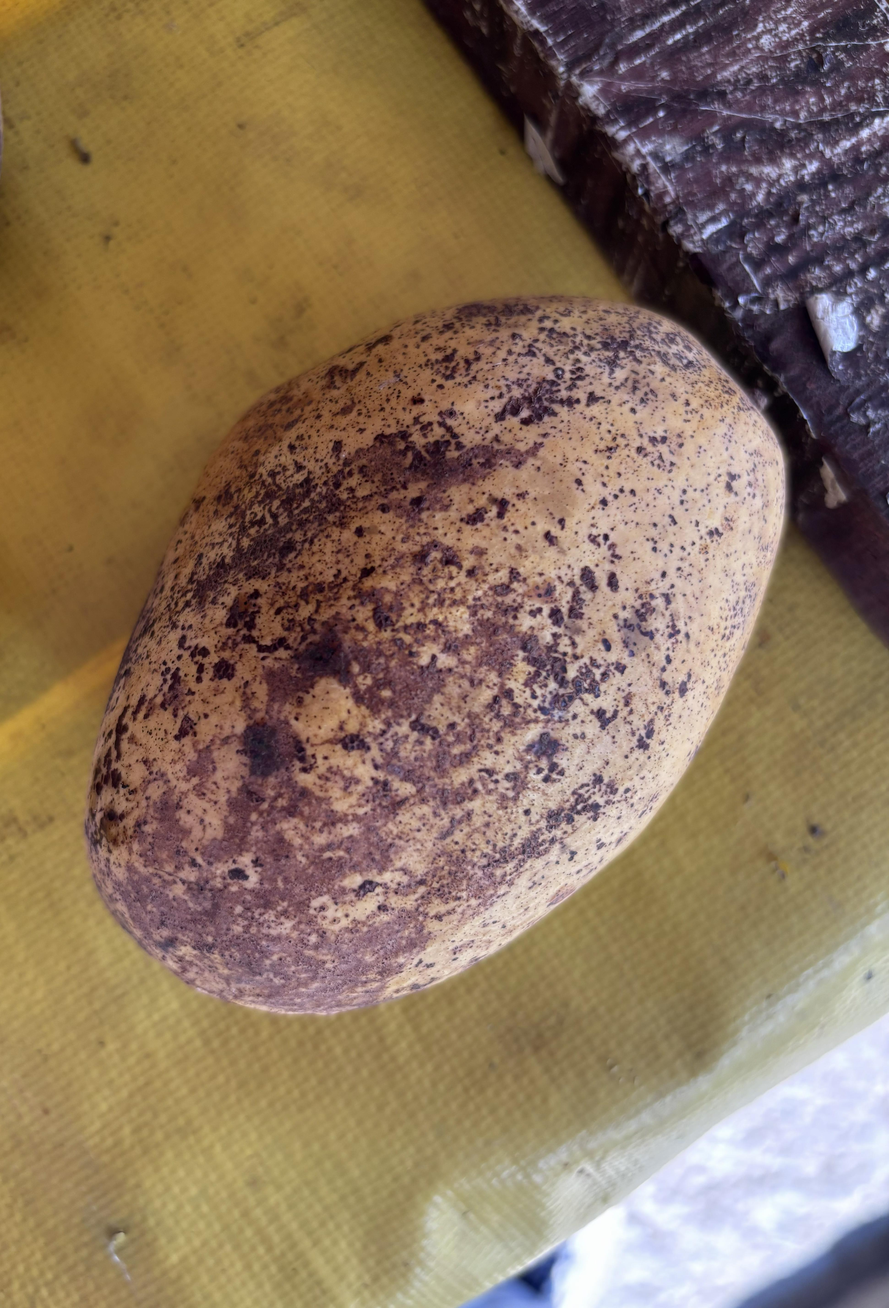mango: (85, 296, 784, 1014)
